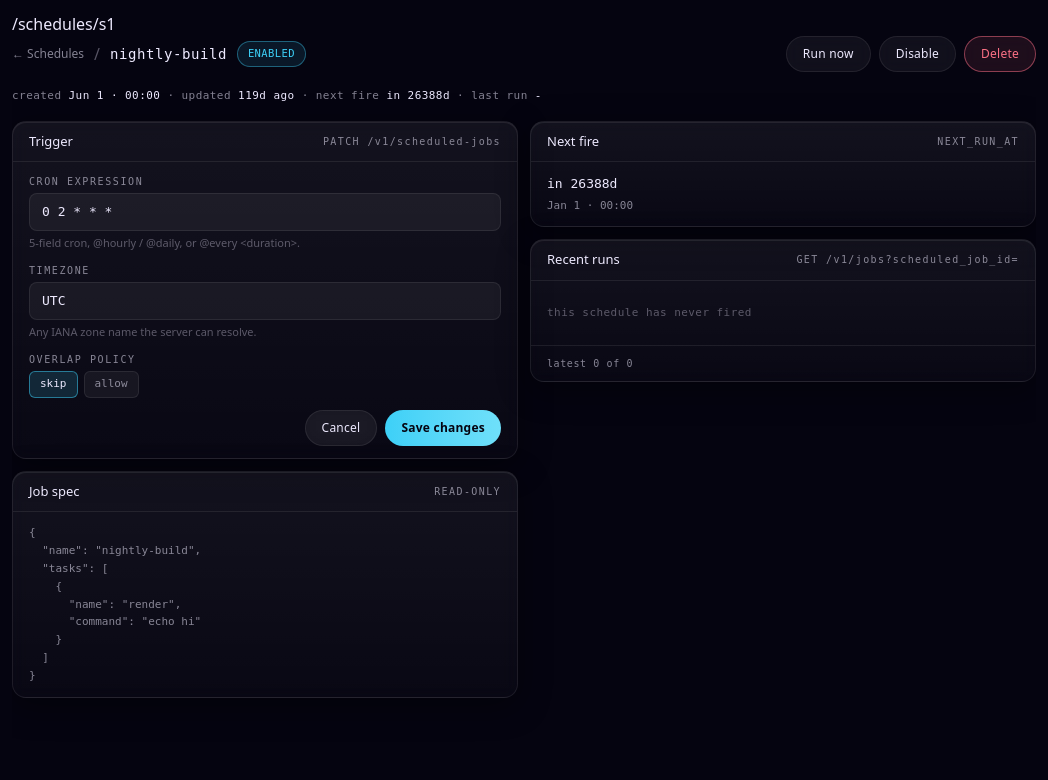
Test: after a 400 then Cancel, no alert remains in the DOM
expect the text "nightly-build" is shown: met, box [110,44,227,64]
Replace the text in the field labelled "Cron expression" with "@every 1s" at (265, 212), box [29,193,501,230]
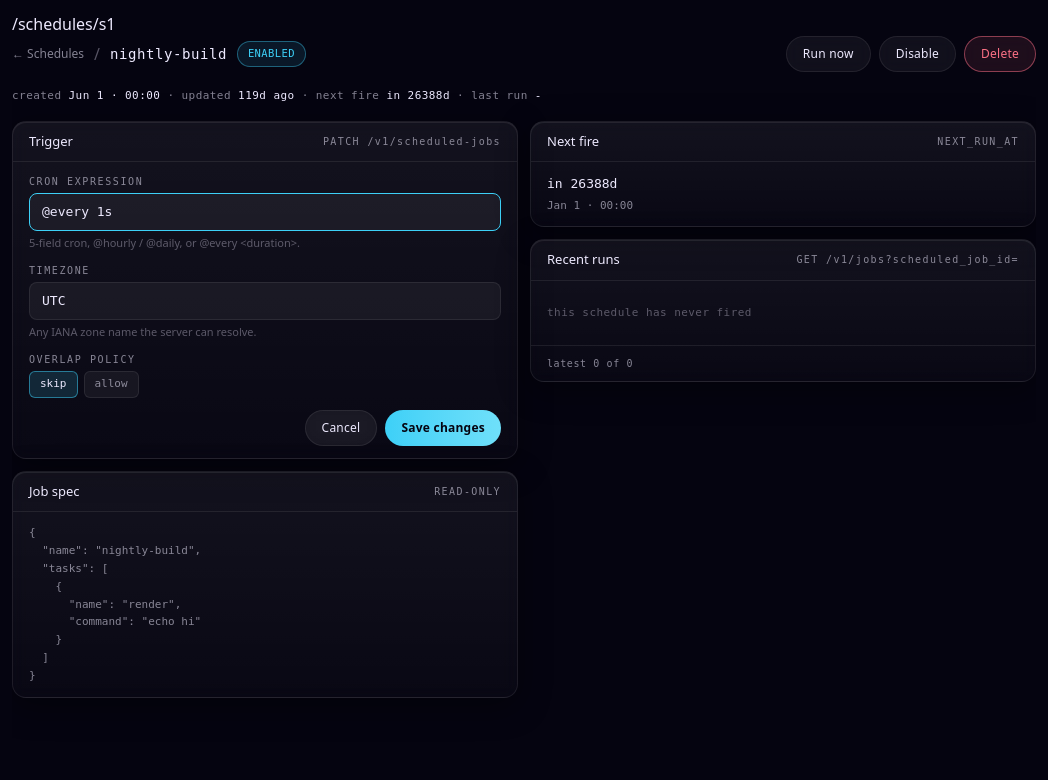
Click the button "Save changes".
click(443, 428)  # box [385,410,501,446]
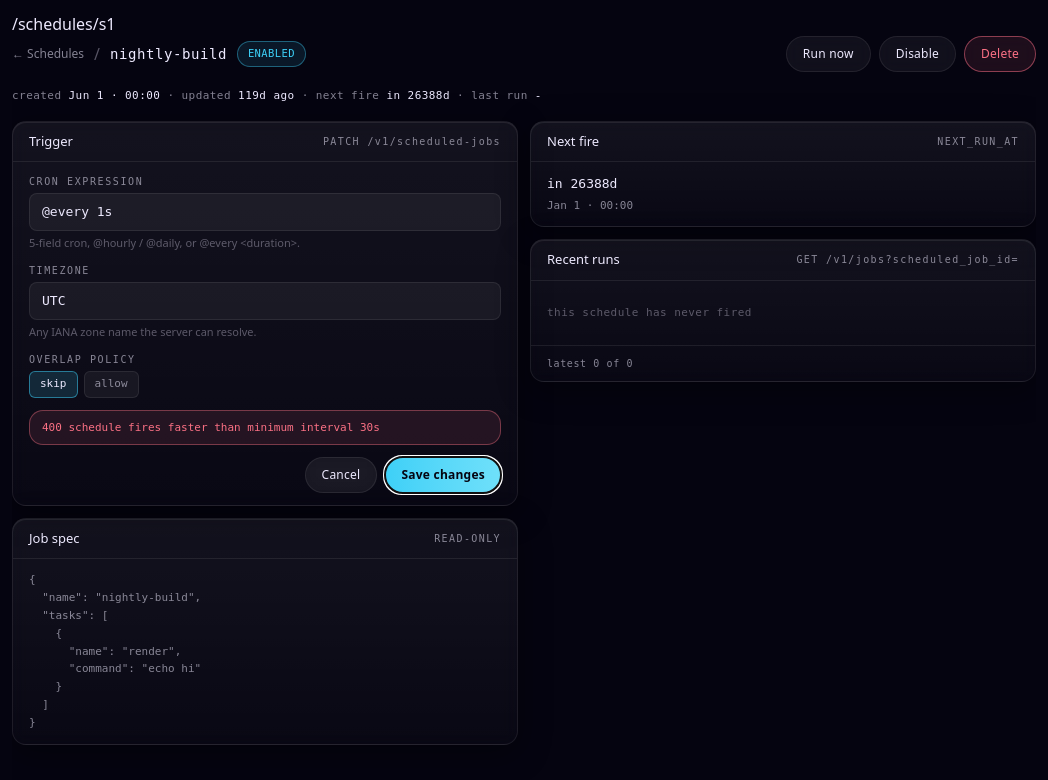
expect the message "400 schedule fires faster than minimum interval 30s" is shown: met, box [29,410,501,445]
Click the button "Cancel".
click(341, 475)  # box [305,457,377,493]
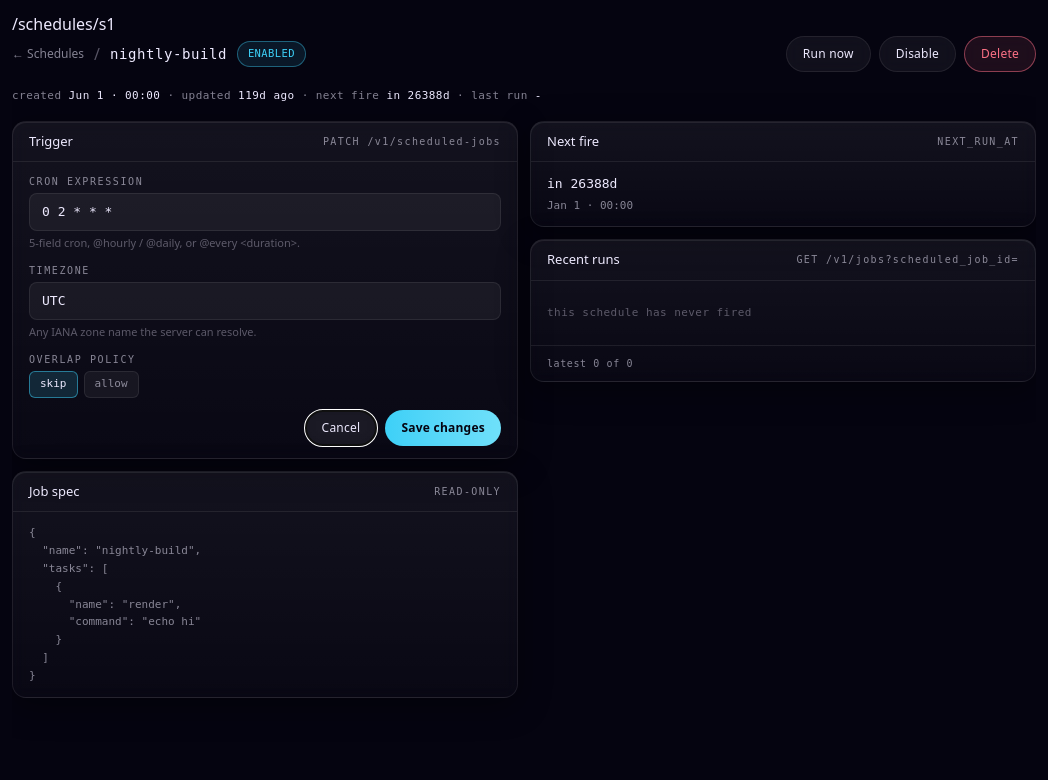
expect the message "400 schedule fires faster than minimum interval 30s" is gone: met
